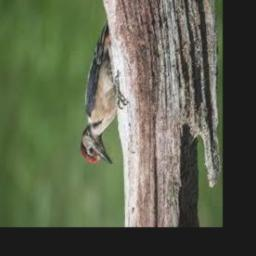Woodpecker: (81, 23, 118, 164)
